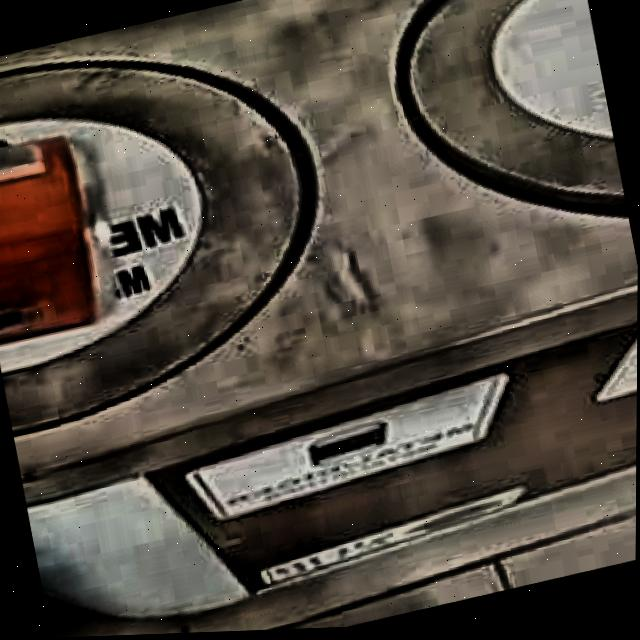metal: (0, 139, 100, 343)
